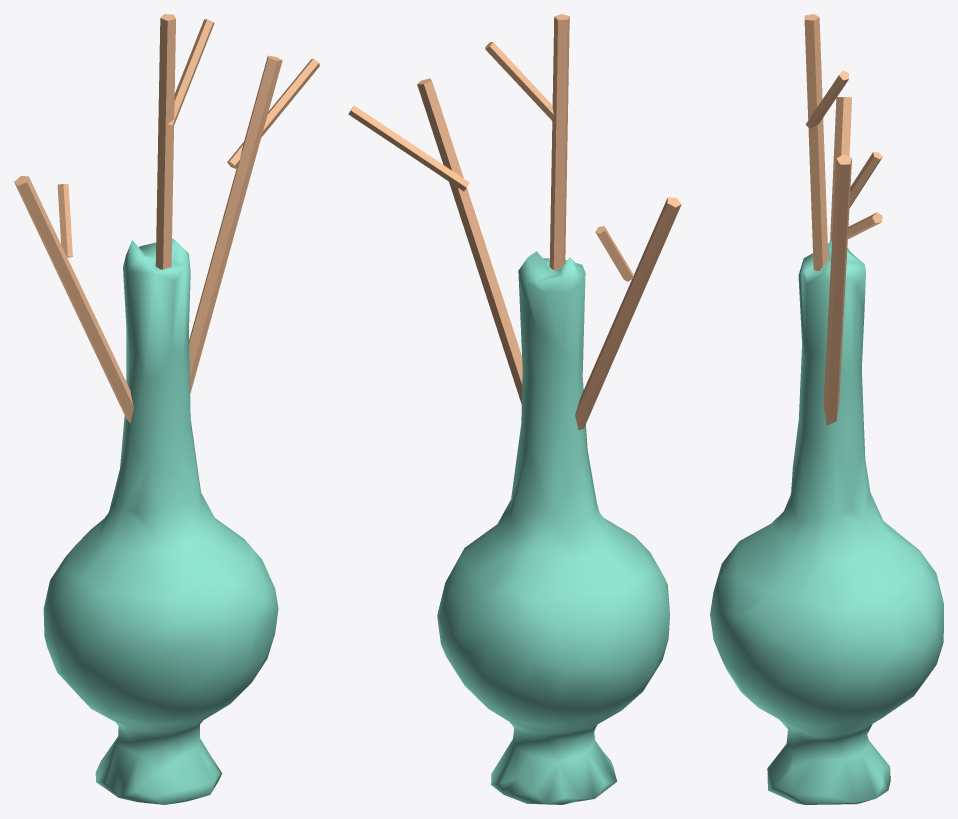
3 views of the same model, side by side, from view 1: azimuth 30°, elevation 25°; view 2: azimuth 150°, elevation 25°; view 3: azimuth 270°, elevation 25° (orthographic).
Parts seen in each view (by area): view 1: 가지 장식 꽃병, Display branch.001, Display branch, Display branch.002, Display twig.002, Display twig.001, Display twig; view 2: 가지 장식 꽃병, Display branch.001, Display branch.002, Display branch, Display twig.001, Display twig.002, Display twig; view 3: 가지 장식 꽃병, Display branch.001, Display branch.002, Display branch, Display twig.002, Display twig, Display twig.001.
Part boxes in pixels (x1,y1,x2,y2): 가지 장식 꽃병: (43,238,278,804); Display branch.001: (189,55,282,394); Display branch: (14,176,133,423); Display branch.002: (155,14,175,269); Display twig.002: (168,19,214,126); Display twig.001: (227,58,319,168); Display twig: (57,184,72,257); 가지 장식 꽃병: (437,251,669,804); Display branch.001: (417,78,522,403); Display branch.002: (549,14,569,270); Display branch: (575,197,681,430); Display twig.001: (348,105,469,191); Display twig.002: (485,42,553,121); Display twig: (595,226,633,281); 가지 장식 꽃병: (710,240,943,804); Display branch.001: (823,154,851,425); Display branch.002: (804,14,828,270); Display branch: (830,97,851,241); Display twig.002: (806,70,848,128); Display twig: (849,152,882,208); Display twig.001: (846,212,882,239).
Size of the model in its own units: 0.442 by 1.02 by 0.2816.
1 material, 1 textured.
